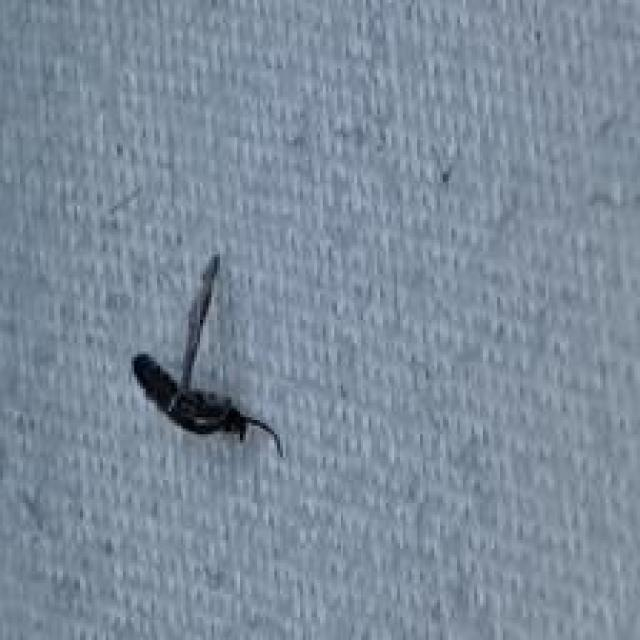Aedes albopictus: (130, 252, 284, 457)
